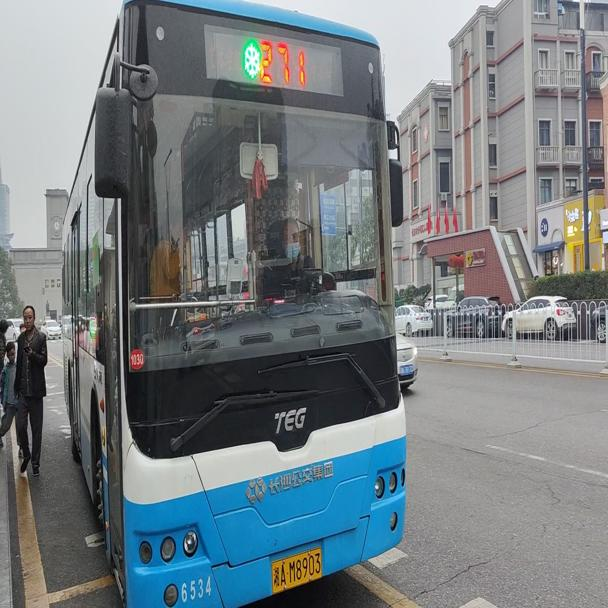bus: (61, 2, 408, 603)
screen: (258, 33, 314, 85)
